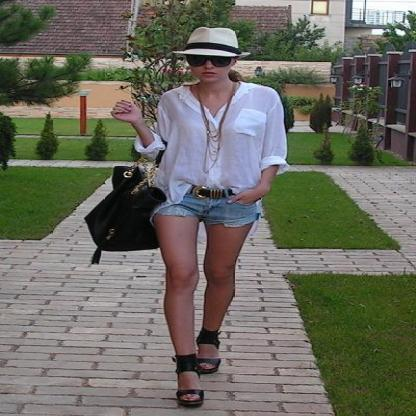bag: (84, 145, 172, 263)
hat: (172, 27, 250, 56)
shirt: (134, 82, 286, 196)
shoe: (162, 327, 222, 407)
shorts: (156, 192, 264, 232)
sunglass: (181, 42, 243, 67)
